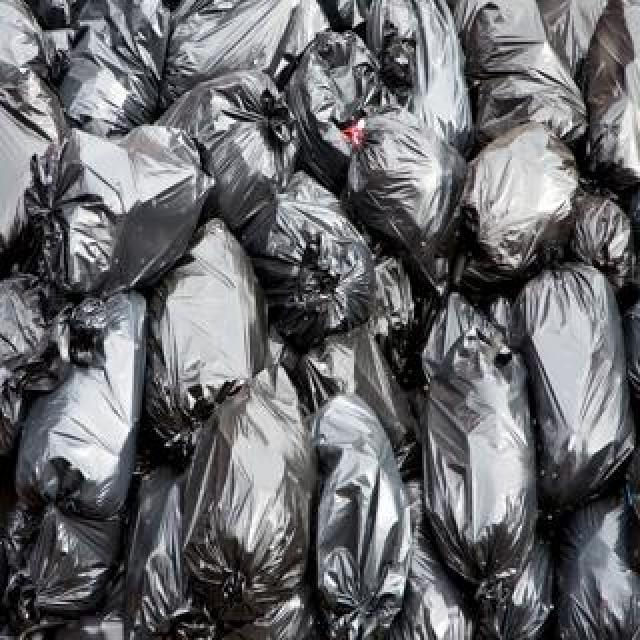Trashbag: (183, 372, 321, 639), (27, 135, 208, 309), (16, 299, 150, 517), (418, 350, 545, 574), (139, 229, 265, 422), (168, 69, 309, 238), (315, 399, 411, 639), (521, 302, 640, 491), (337, 117, 472, 276), (454, 5, 593, 156), (257, 193, 388, 344), (454, 124, 579, 278), (61, 0, 188, 144), (361, 3, 483, 148), (175, 4, 329, 100), (542, 504, 640, 634), (30, 503, 124, 633), (306, 323, 424, 425), (115, 486, 195, 636), (476, 555, 548, 640), (403, 551, 465, 637)
